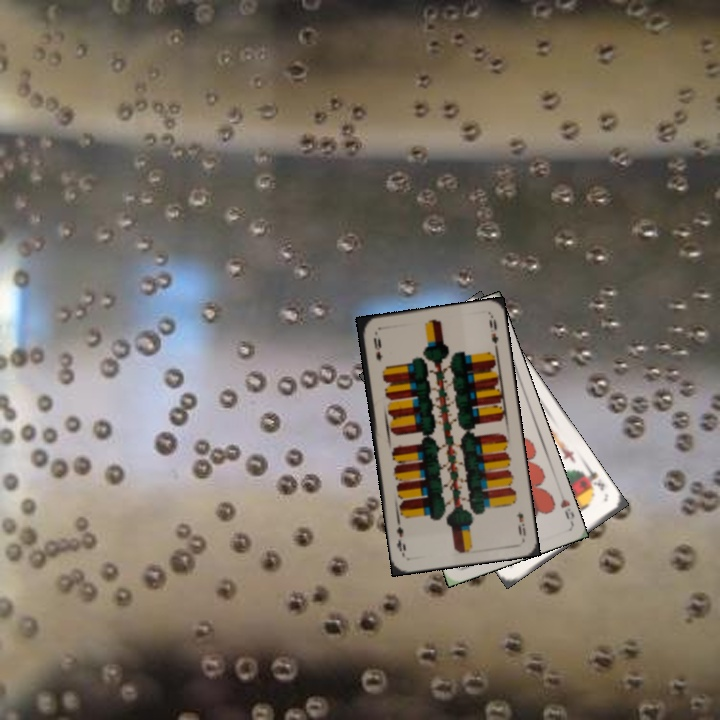E9: (512, 507, 529, 539), (370, 333, 385, 363)
H9: (556, 495, 576, 521)
SK: (578, 464, 607, 493)
